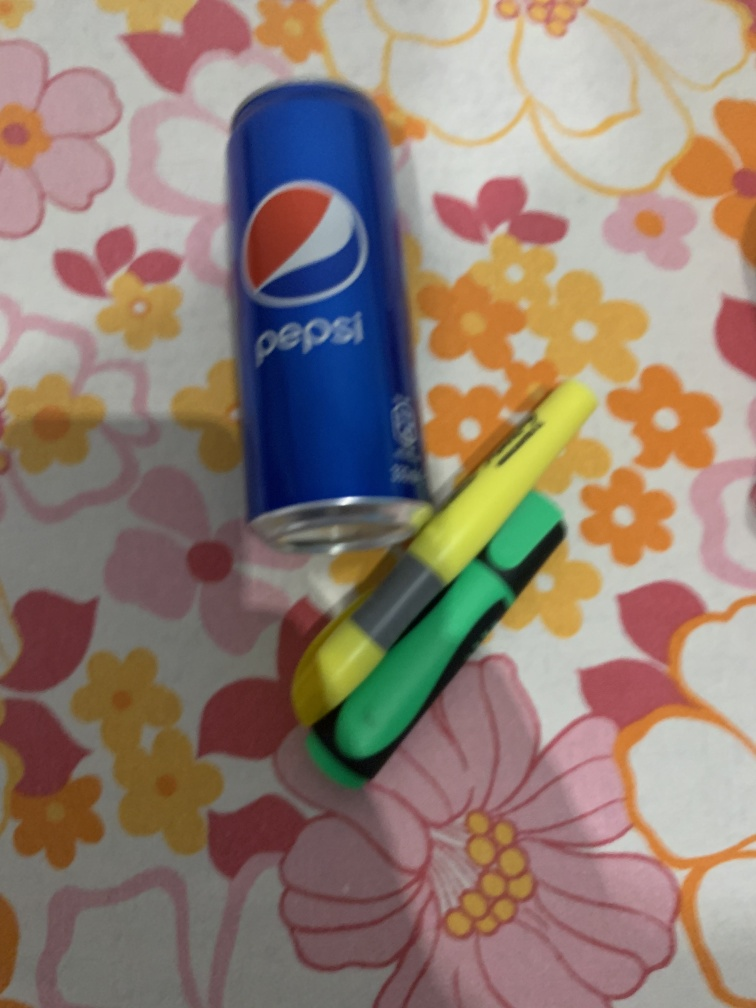pepsi: (219, 75, 432, 554)
